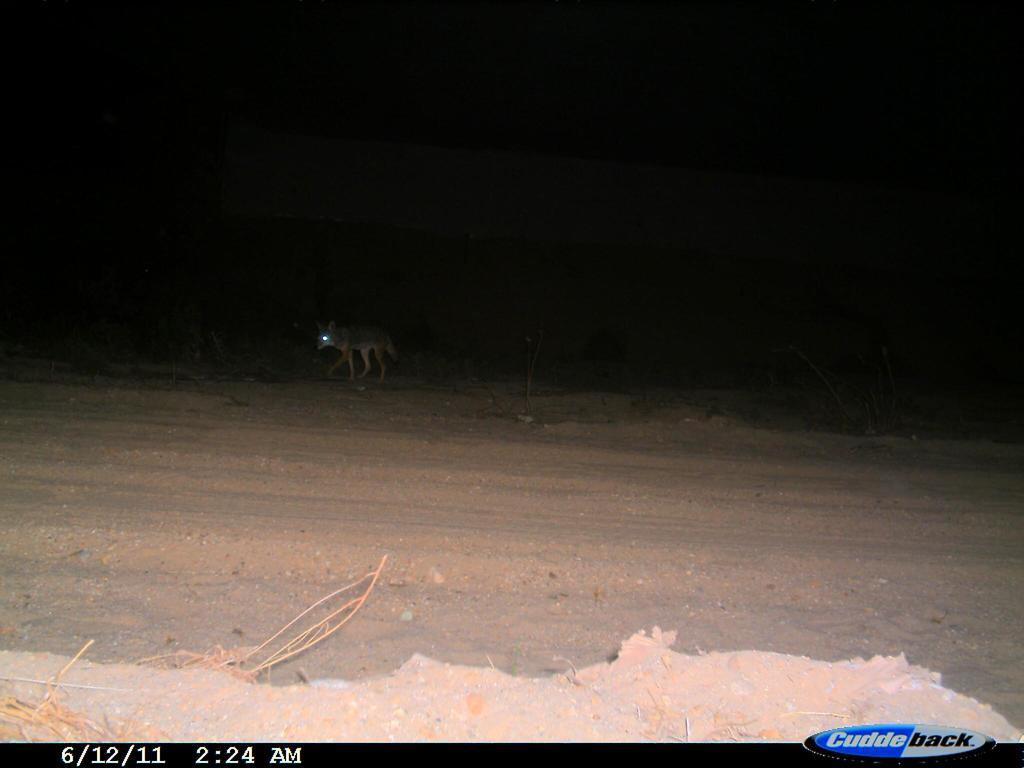coyote: (312, 317, 405, 390)
